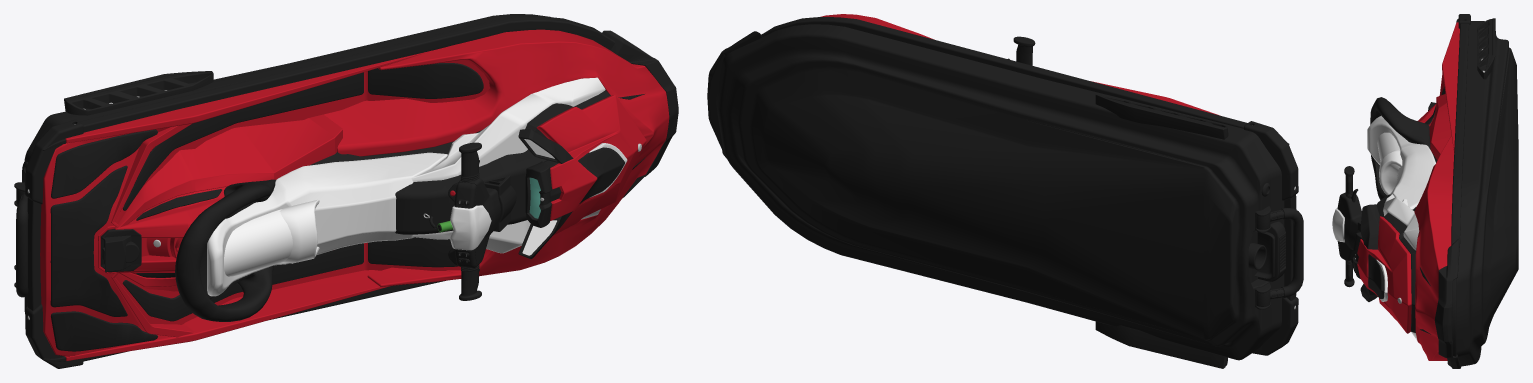
The model's file is jetski_seadoo_gti.obj.
The picture shows the model from 3 angles, left to right: view 1: azimuth 30°, elevation 25°; view 2: azimuth 150°, elevation 25°; view 3: azimuth 270°, elevation 25°; orthographic projection. The views are drawn at different scales.
Size of the model in its own units: 3.4 by 1.28 by 1.14.
4 materials, 2 textured.
